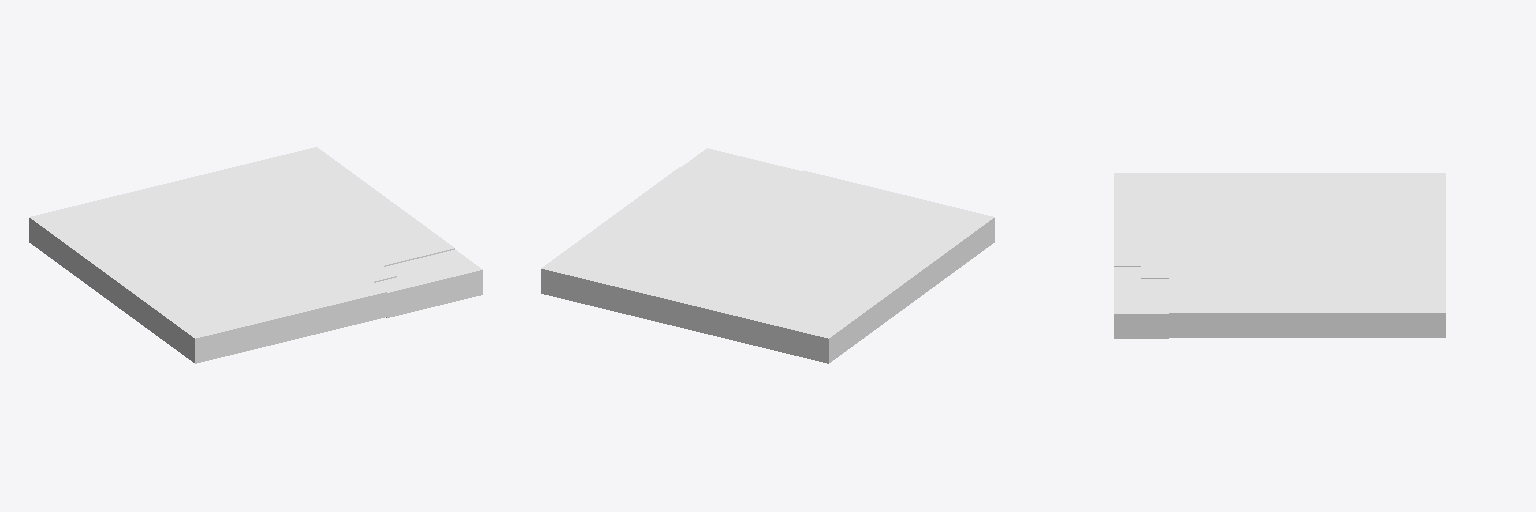
The model's file is order8.vox.obj.
3 views of the same model, side by side, from view 1: azimuth 30°, elevation 25°; view 2: azimuth 150°, elevation 25°; view 3: azimuth 270°, elevation 25° (orthographic).
Parts seen in each view (by area): view 1: object 1; view 2: object 1; view 3: object 1.
Part boxes in pixels (x1,y1,x2,y2): object 1: (29,147,482,363); object 1: (541,148,994,363); object 1: (1114,173,1445,338).
Size of the model in its own units: 24 by 2.1 by 24.